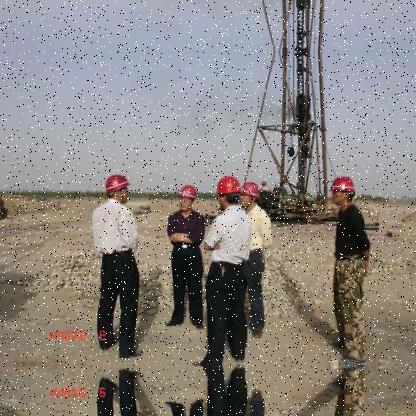helmet: (330, 172, 358, 208), (103, 170, 130, 203), (218, 175, 244, 208), (234, 177, 258, 210), (178, 182, 200, 211)
